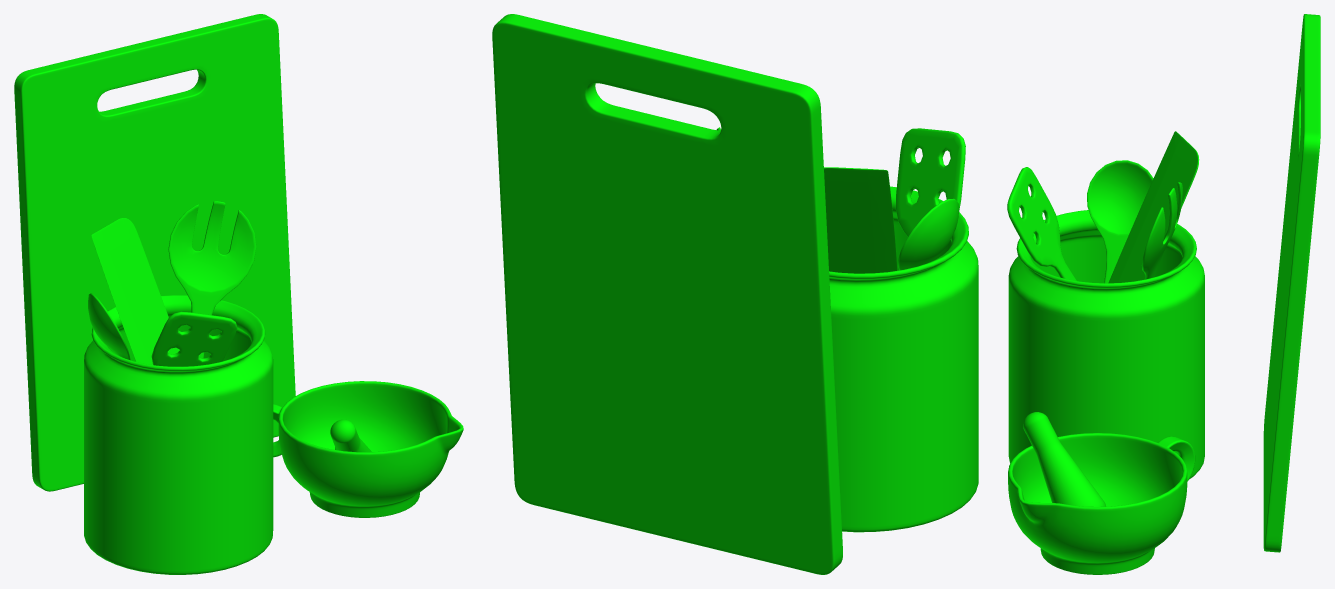
File: Kitchen tools.fbx
The picture shows the model from 3 angles, left to right: view 1: azimuth 30°, elevation 25°; view 2: azimuth 150°, elevation 25°; view 3: azimuth 270°, elevation 25°; orthographic projection. The views are drawn at different scales.
Parts seen in each view (by area): view 1: Kitchen tools; view 2: Kitchen tools; view 3: Kitchen tools.
Boxes of the visible parts, bbox=[...] form: Kitchen tools: bbox=[14, 14, 463, 574]; Kitchen tools: bbox=[492, 14, 978, 574]; Kitchen tools: bbox=[1007, 14, 1320, 574].
Size of the model in its own units: 221 by 252 by 171.
